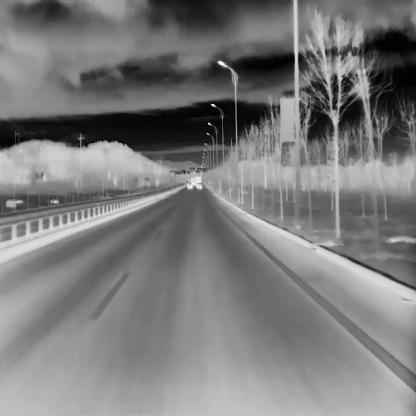car: (195, 176, 200, 186), (191, 177, 196, 185), (187, 183, 193, 188), (197, 182, 202, 188)
